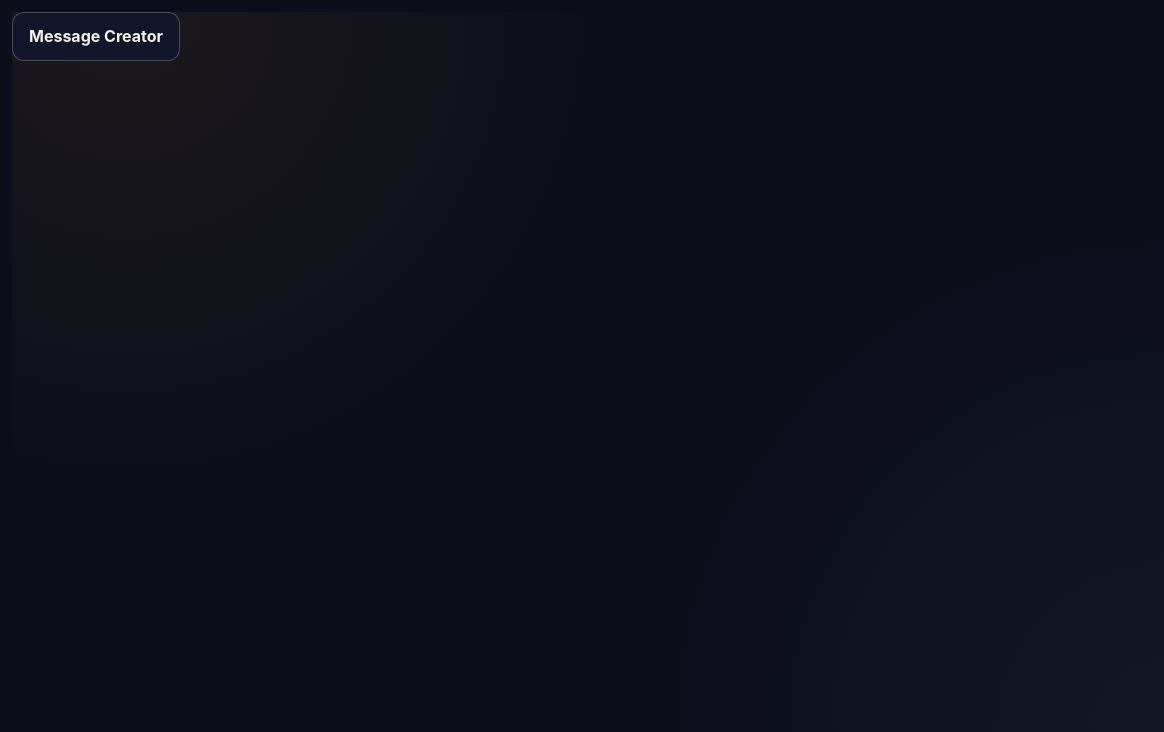
Test: StartConversationAction › starts the canonical backend conversation and navigates to it
Click the button "Message Creator" at point(96, 37), box left=12, top=12, right=180, bottom=61
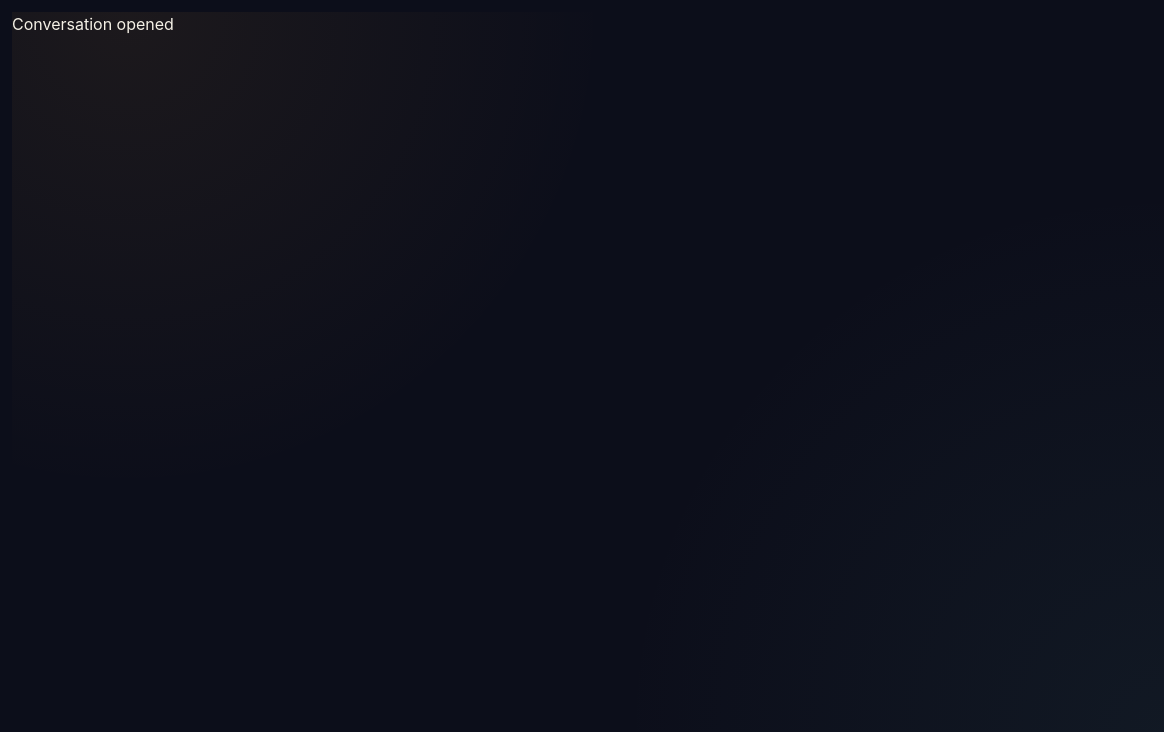
Check: the text "Conversation opened" is shown, box left=12, top=14, right=174, bottom=34
